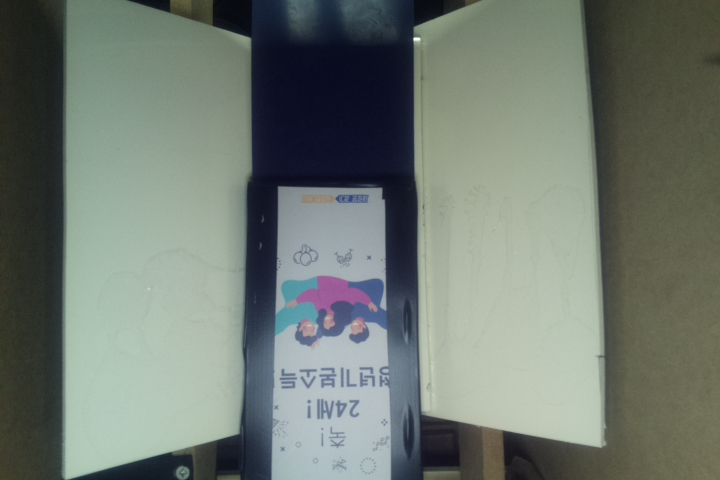book: (246, 176, 422, 480)
